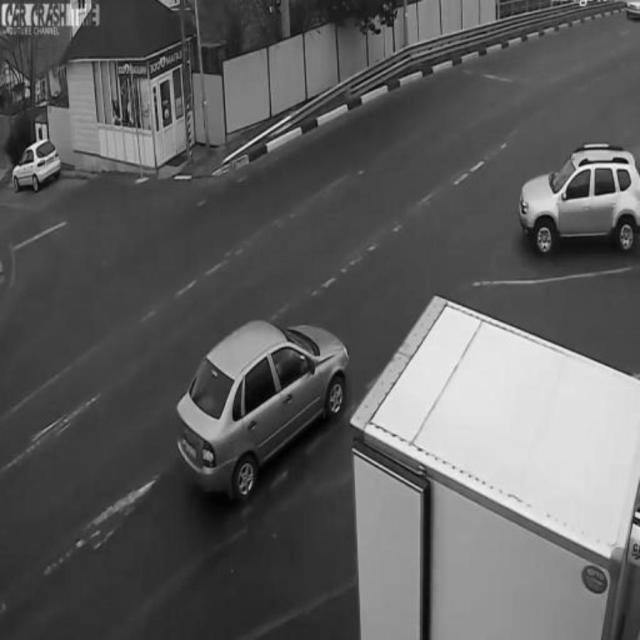vehicle: (172, 319, 347, 495), (519, 140, 640, 266), (12, 136, 63, 193)
